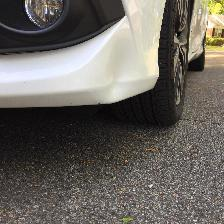dent: (90, 62, 152, 84)
